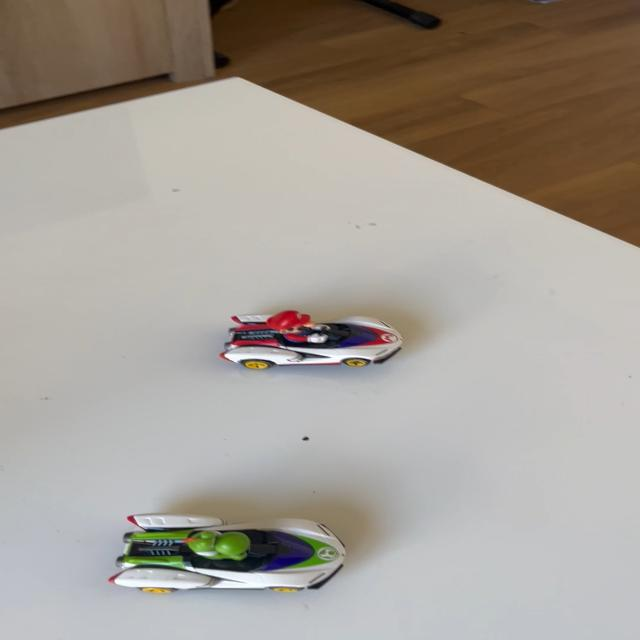mario: (205, 300, 421, 381)
yoshi: (84, 497, 362, 602)
